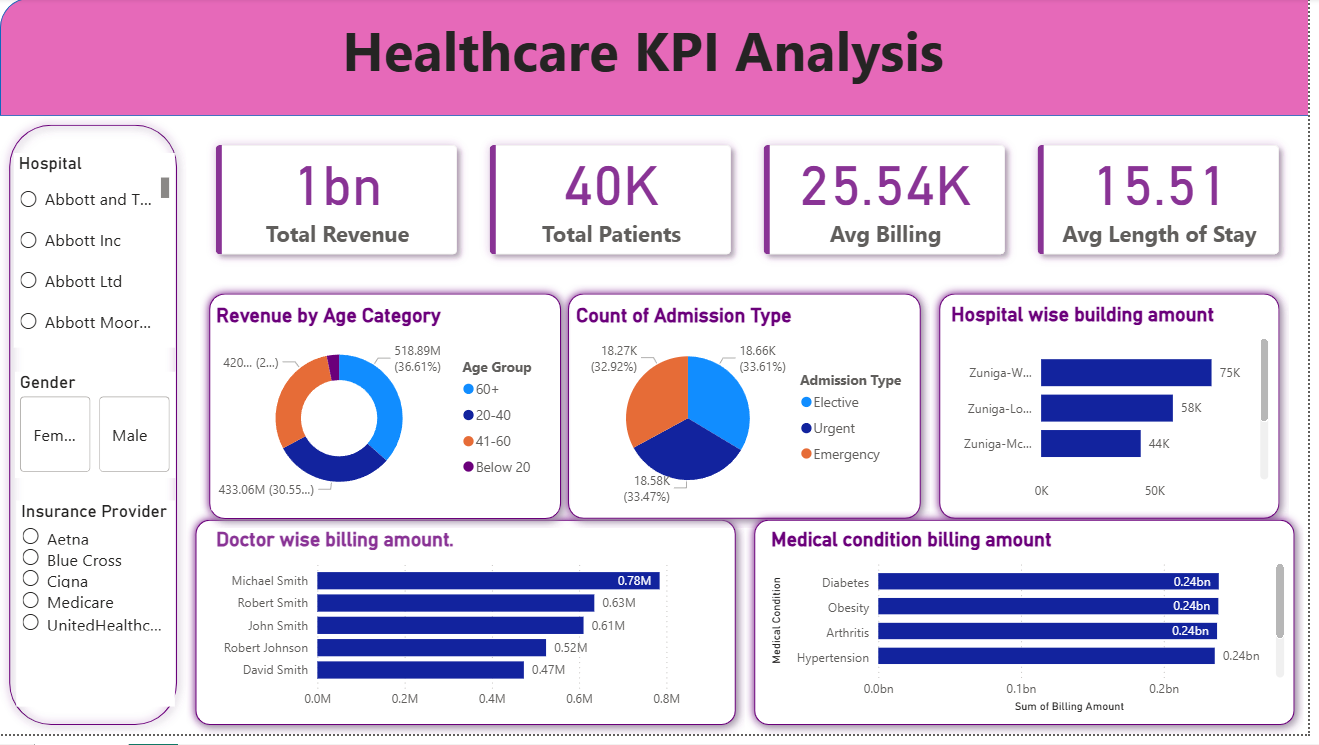

The dashboard page shown, as its layout file describes it:
{"tool":"powerbi","page":{"name":"Page 1","canvas":[1280,720],"ordinal":0},"visuals":[{"type":"cardVisual","fields":{"Data":["Dax.Total Revenue","Dax.Total Patients","Dax.Avg Billing","Dax.Avg Length of Stay"]},"box":[182.2,114.9,1098.1,165.1],"z":0},{"type":"shape","box":[182.2,501.4,546.6,218.9],"z":1000},{"type":"clusteredBarChart","title":"Doctor wise billing amount.","fields":{"Category":["healthcare.Doctor"],"Y":["Sum(healthcare.Billing Amount)"]},"box":[206.7,518.5,495.2,185.9],"z":2000},{"type":"shape","box":[546.6,280,363.2,238.5],"z":3000},{"type":"shape","box":[909.8,280,351,238.5],"z":4000},{"type":"pieChart","title":"Count of Admission Type","fields":{"Category":["healthcare.Admission Type"],"Y":["CountNonNull(healthcare.Name)"]},"box":[558.8,299.6,338.7,201.8],"z":5000},{"type":"barChart","title":"Hospital wise building amount","fields":{"Y":["Sum(healthcare.Billing Amount)"],"Category":["healthcare.Hospital"]},"box":[925.7,298.4,320.4,201.8],"z":6000},{"type":"shape","box":[728.8,501.4,546.6,218.9],"z":7000},{"type":"shape","box":[0,0,1499.4,115.3],"z":8000},{"type":"textbox","box":[64.8,18.3,1148.2,78.3],"z":9000},{"type":"shape","box":[0,114.9,182.2,605.3],"z":10000},{"type":"advancedSlicerVisual","fields":{"Values":["healthcare.Gender"]},"box":[14.7,365.6,156.5,103.9],"z":11000},{"type":"listSlicer","fields":{"Values":["healthcare.Insurance Provider"]},"box":[15.9,491.6,155.3,201.8],"z":12000},{"type":"listSlicer","fields":{"Values":["healthcare.Hospital"]},"box":[13.5,151.6,157.7,190.8],"z":13000},{"type":"clusteredBarChart","title":"Medical condition billing amount","fields":{"Category":["healthcare.Medical Condition"],"Y":["Sum(healthcare.Billing Amount)"]},"box":[749.2,518.7,511.8,185.2],"z":14000},{"type":"shape","box":[196.2,279.9,362.3,238.8],"z":15000},{"type":"donutChart","title":"Revenue by Age Category","fields":{"Category":["healthcare.Age Group"],"Y":["Sum(healthcare.Billing Amount)"]},"box":[207.2,299.1,337.6,201.7],"z":16000}]}

Visuals, with their boxes in screenshot pixels (x1, y1, x2, y2), scaled from the page's 1280x720 canvas onto the 1319x745 screenshot:
cardVisual - Dax.Total Revenue x Dax.Total Patients: region(188, 119, 1318, 290)
shape: region(188, 519, 751, 744)
"Doctor wise billing amount." clusteredBarChart: region(213, 537, 723, 729)
shape: region(563, 290, 938, 537)
shape: region(938, 290, 1299, 537)
"Count of Admission Type" pieChart: region(576, 310, 925, 519)
"Hospital wise building amount" barChart: region(954, 309, 1284, 518)
shape: region(751, 519, 1314, 744)
shape: region(0, 0, 1318, 119)
textbox: region(67, 19, 1250, 100)
shape: region(0, 119, 188, 744)
advancedSlicerVisual - healthcare.Gender: region(15, 378, 176, 486)
listSlicer - healthcare.Insurance Provider: region(16, 509, 176, 717)
listSlicer - healthcare.Hospital: region(14, 157, 176, 354)
"Medical condition billing amount" clusteredBarChart: region(772, 537, 1299, 728)
shape: region(202, 290, 576, 537)
"Revenue by Age Category" donutChart: region(214, 309, 561, 518)
